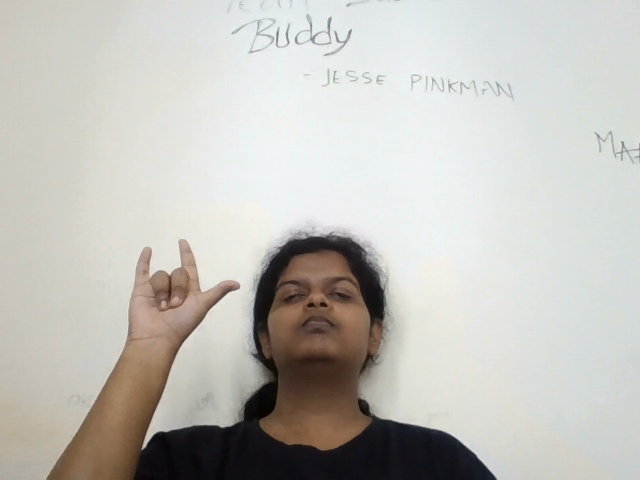i love you: (99, 227, 250, 357)
